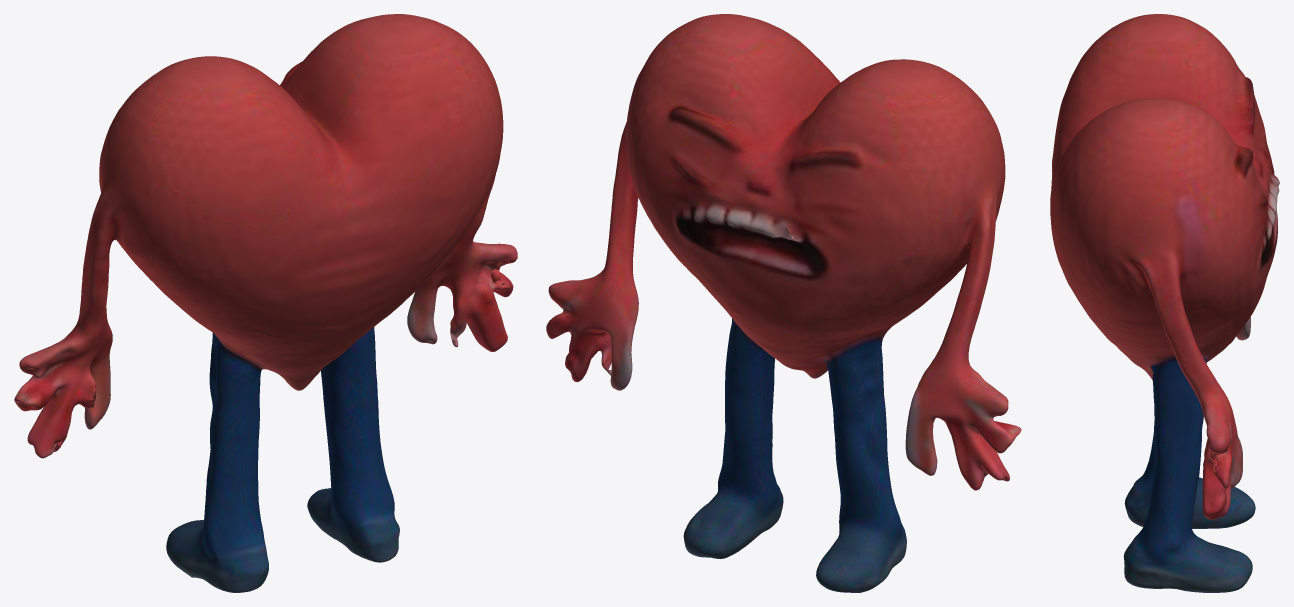
Rendered from heart-pain.glb.
3 views of the same model, side by side, from view 1: azimuth 30°, elevation 25°; view 2: azimuth 150°, elevation 25°; view 3: azimuth 270°, elevation 25° (orthographic). The views are drawn at different scales.
Visible parts, largest first — view 1: HeartPainModel; view 2: HeartPainModel; view 3: HeartPainModel.
Part boxes in pixels (box(x1,y1,x2,y2)): HeartPainModel: box(14, 14, 517, 592); HeartPainModel: box(546, 14, 1021, 592); HeartPainModel: box(1050, 14, 1279, 592).
Bounding box in the file's own units: 0.5315 × 0.5403 × 0.2303.
1 material, 1 textured.
